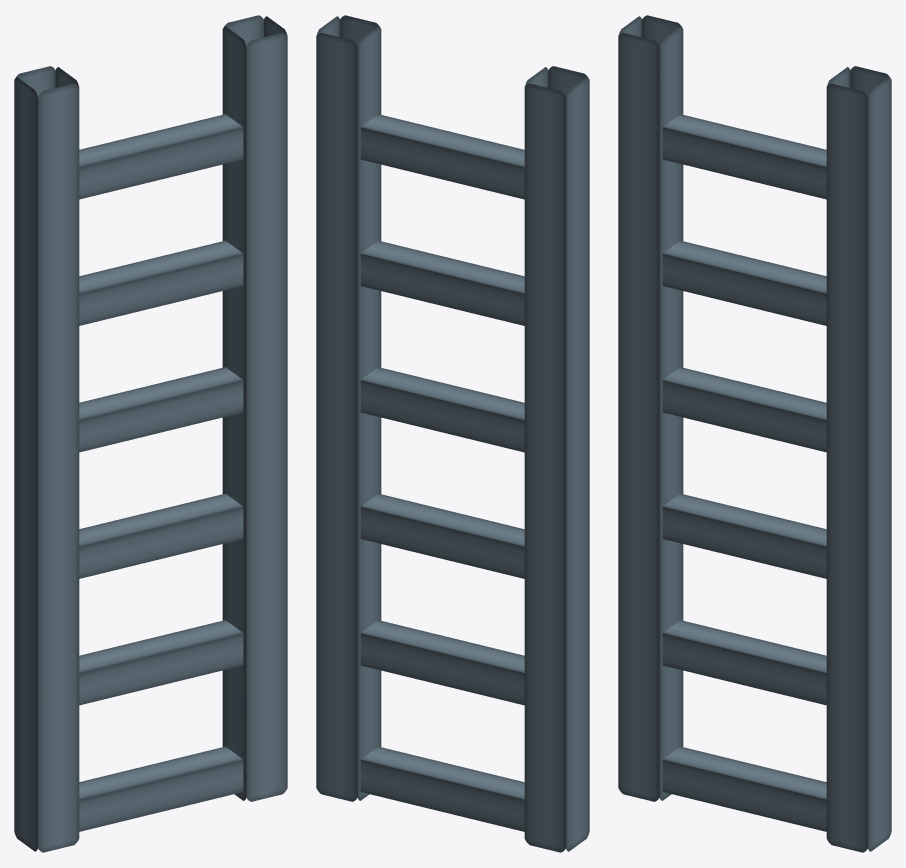
File: Ladder_Body.fbx
3 renders of one model, left to right at view 1: azimuth 30°, elevation 25°; view 2: azimuth 150°, elevation 25°; view 3: azimuth 330°, elevation 25°, orthographic.
Visible parts, largest first — view 1: Cube.002; view 2: Cube.002; view 3: Cube.002.
Boxes of the visible parts, x1,y1,x2,y2 form: Cube.002: [14, 15, 287, 852]; Cube.002: [316, 15, 589, 852]; Cube.002: [618, 15, 891, 852].
Size of the model in its own units: 147 by 428 by 24.29.
Materials: 1 (1 with a texture image).
